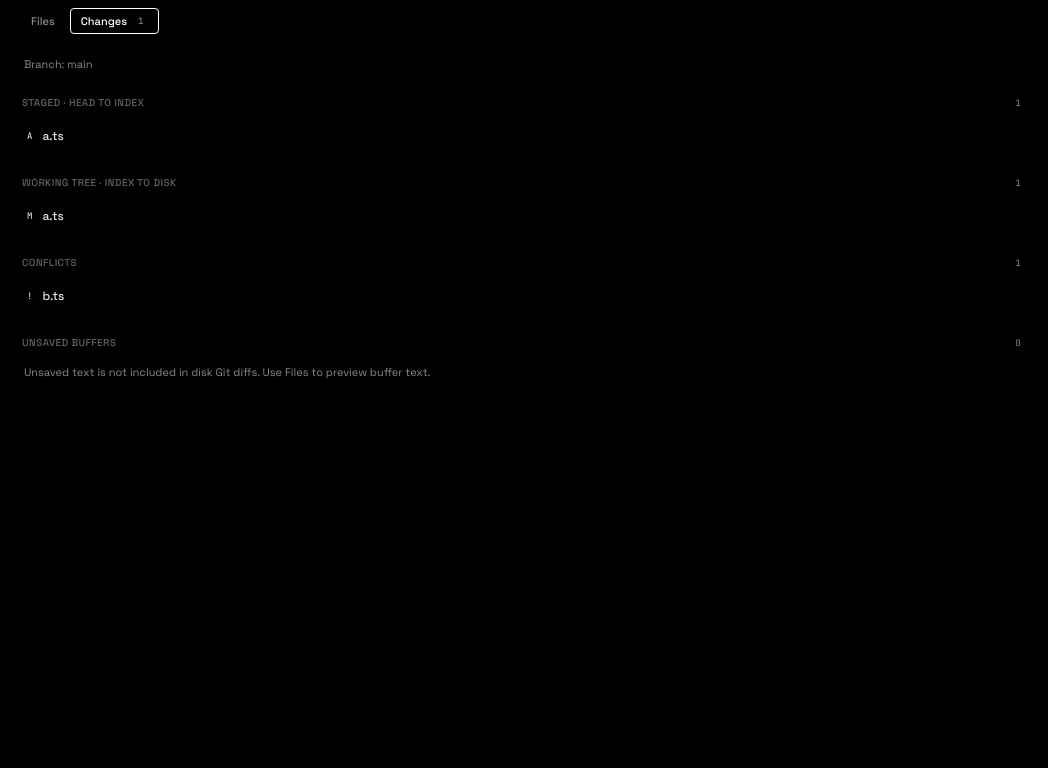
Test case: Agents workspace context › persists requested tab and reads independent staged and working tree baselines
The width and height of the screenshot is (1048, 768).
Click the button "A a.ts".
click(30, 136)  # box [12,118,1036,154]
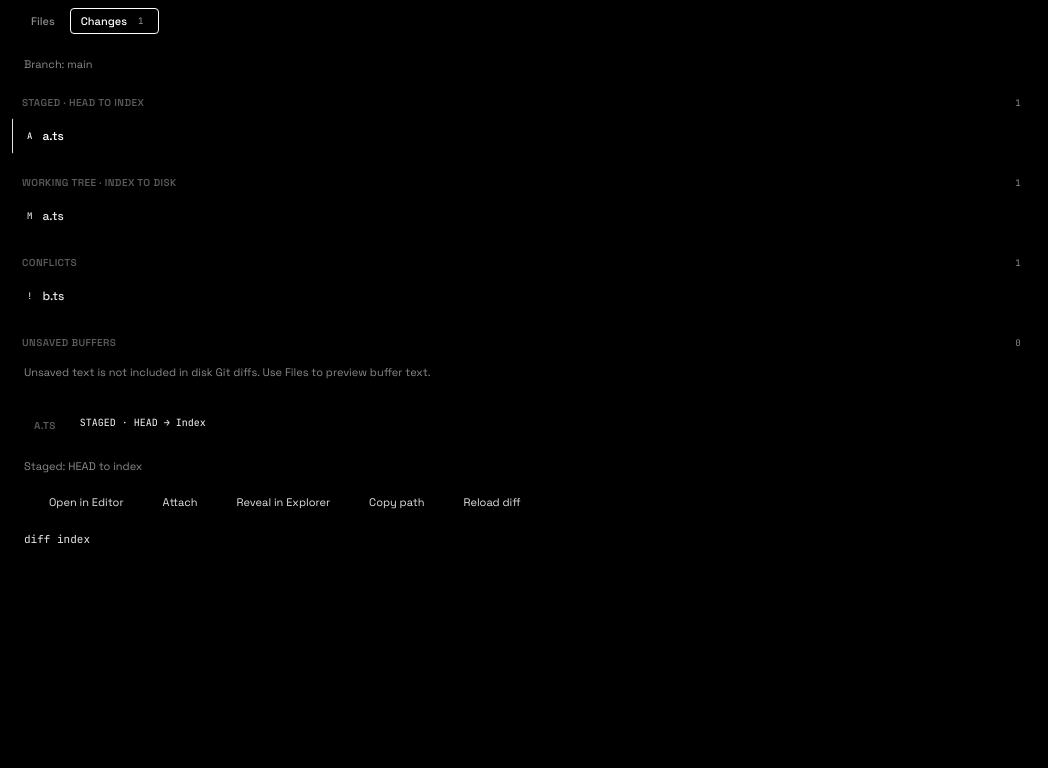
Expected: the text "diff index" is shown, [24,532,90,546]
Click the button "M a.ts".
click(30, 216)  # box [12,198,1036,234]
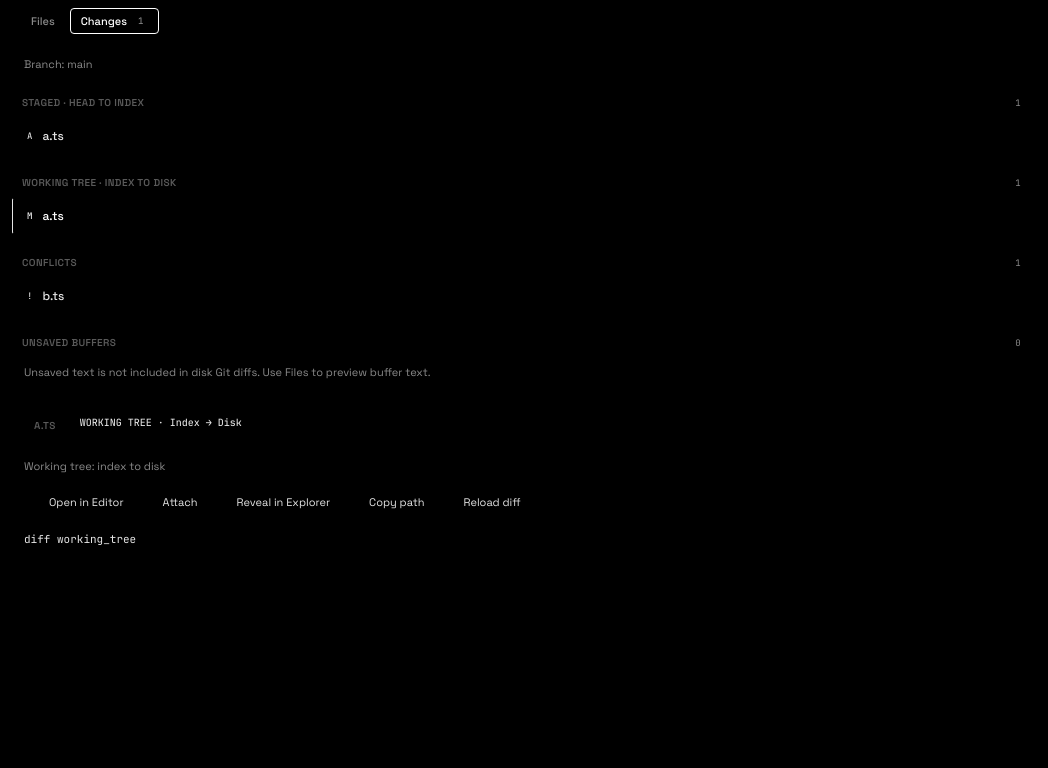
Expected: the element "Conflicts" shows "b.ts", [12,278,1036,314]
Expected: the text "diff working_tree" is shown, [24,532,136,546]
